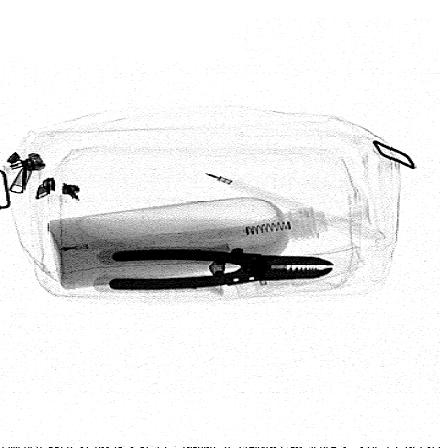Pliers: (108, 250, 335, 291)
